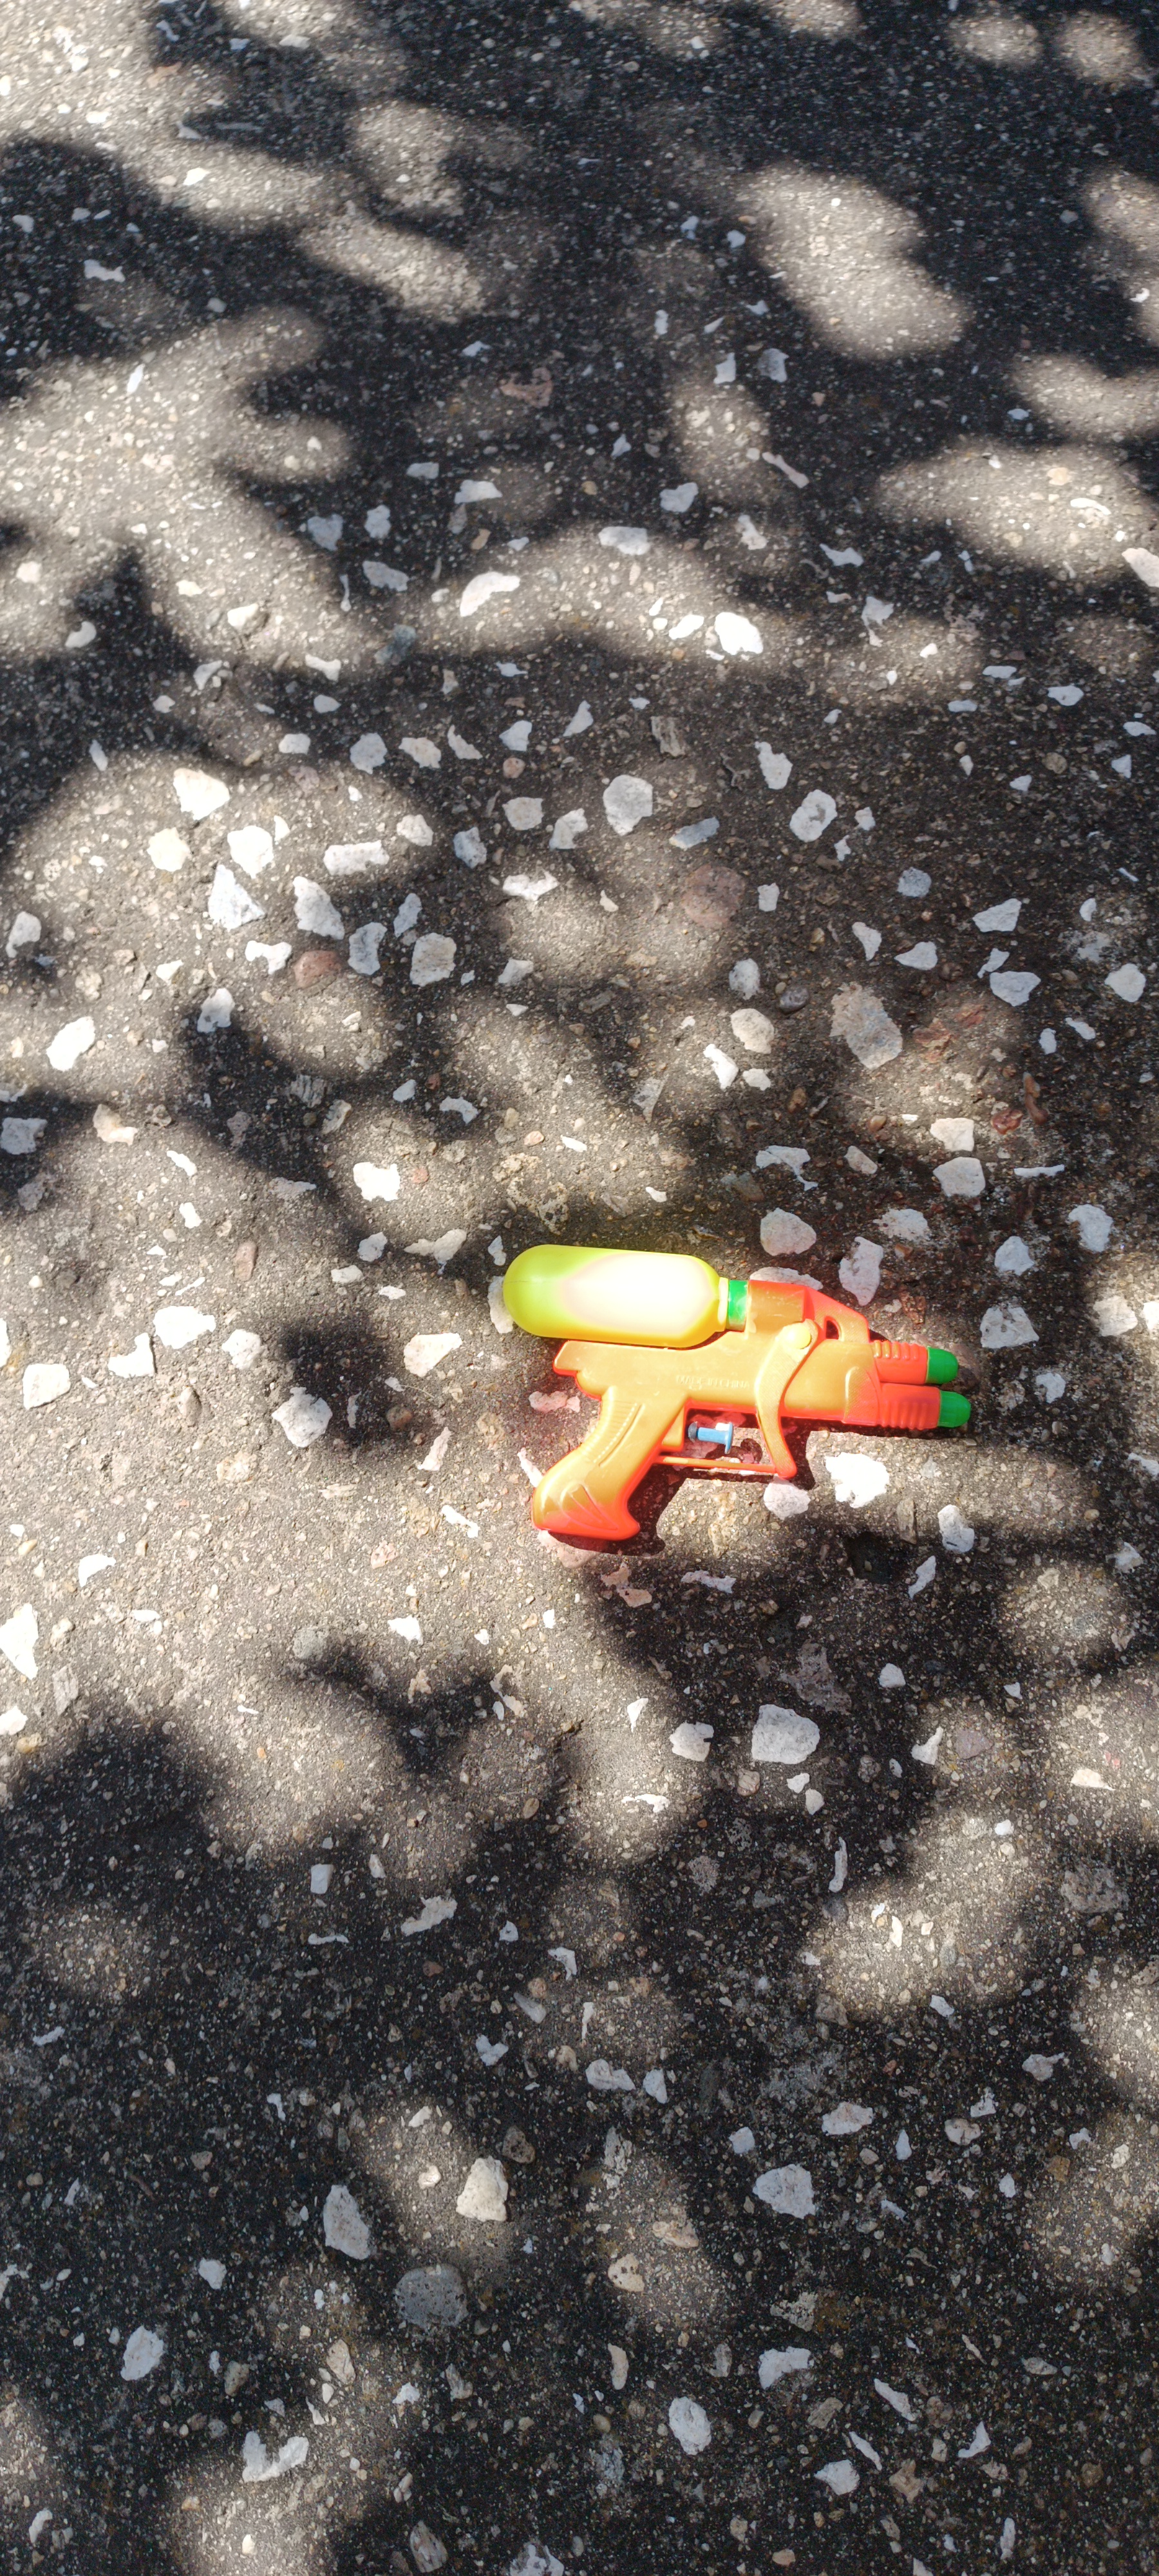Water Gun: (502, 1244, 972, 1539)
